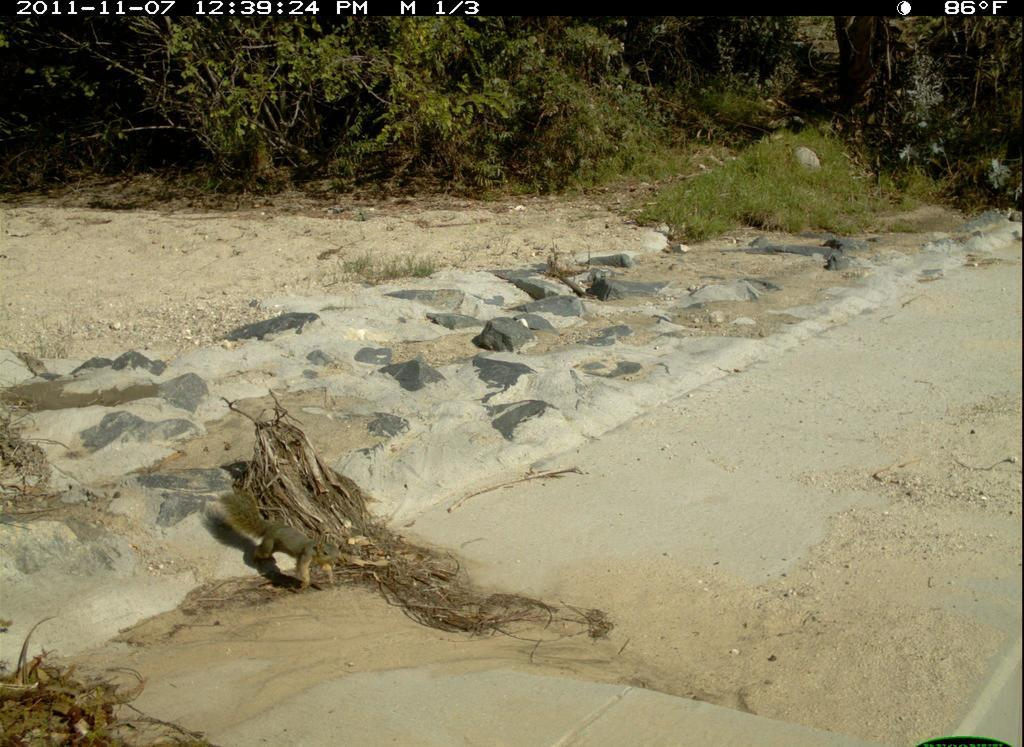squirrel: (218, 486, 347, 596)
